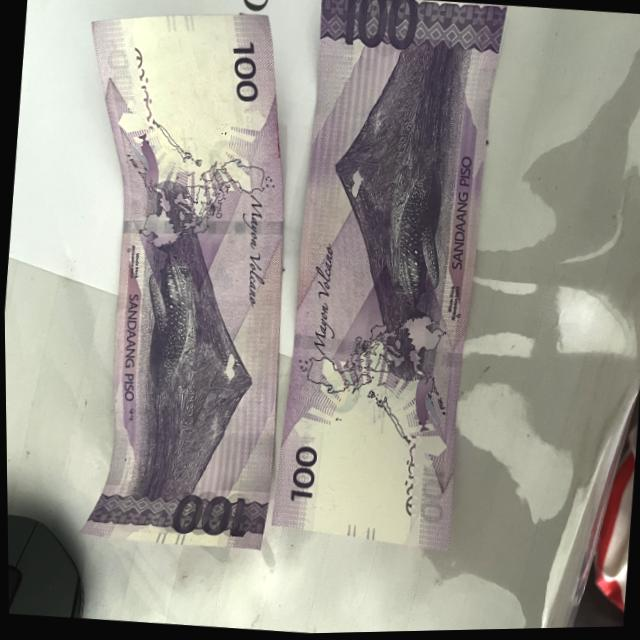100_whale: (379, 146, 457, 346), (133, 223, 204, 409)
100_whale_watermark: (405, 349, 459, 455), (122, 129, 168, 203)
watermark: (113, 0, 260, 173), (297, 392, 431, 536)
